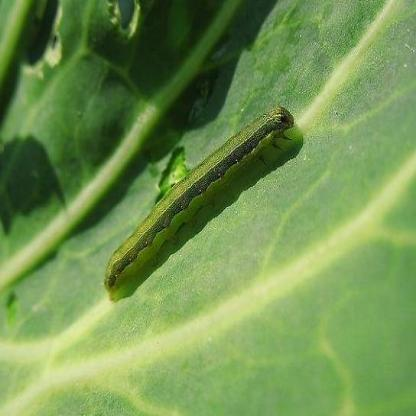armyworm: (86, 81, 307, 319)
